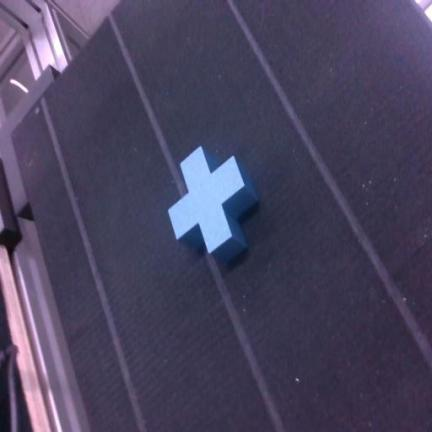cross: (169, 147, 257, 260)
